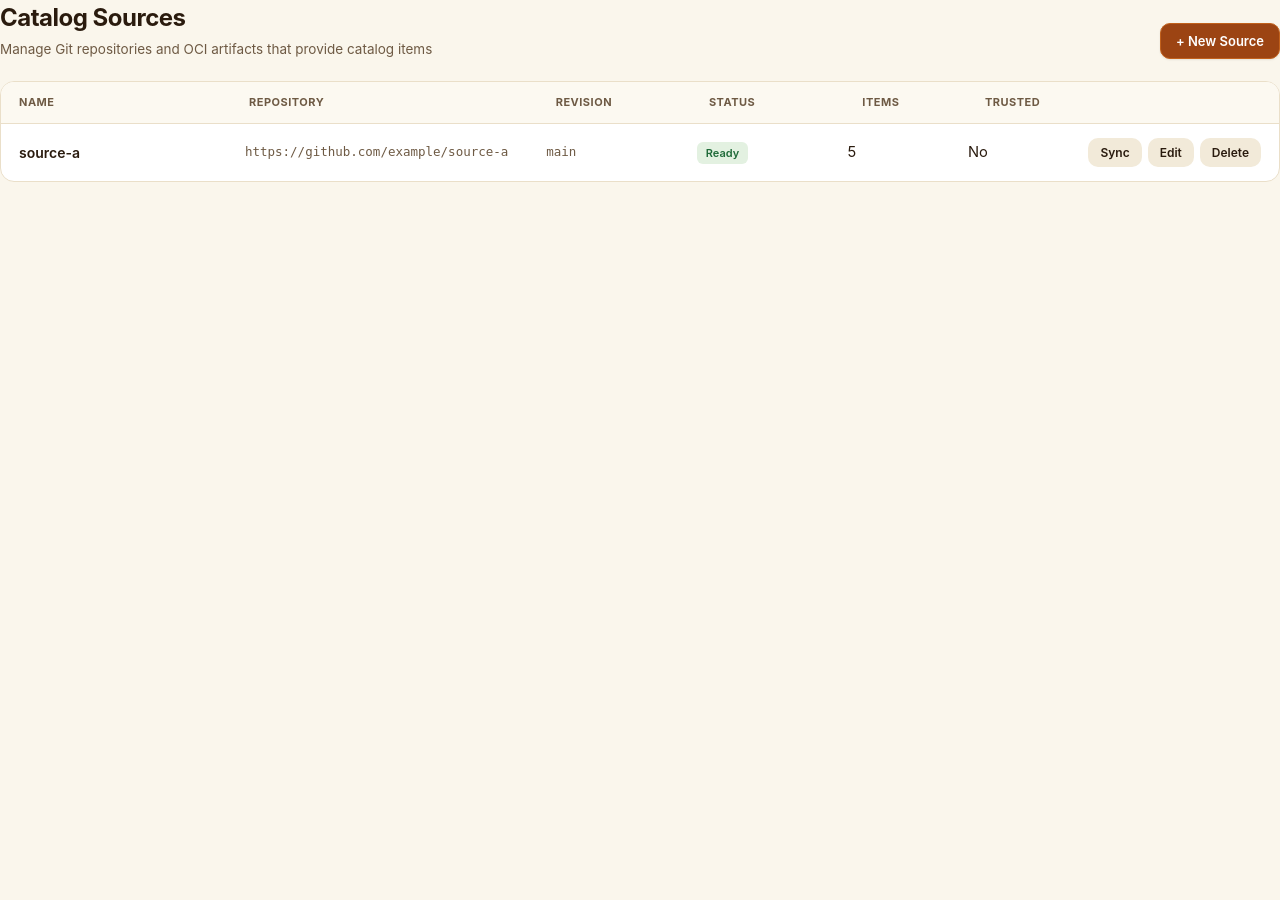
Test: CatalogSources › Edit dialog › opens the edit dialog with pre-filled values
The image size is (1280, 900).
Click the button "Edit".
click(1171, 152)  # box [1148, 138, 1194, 167]
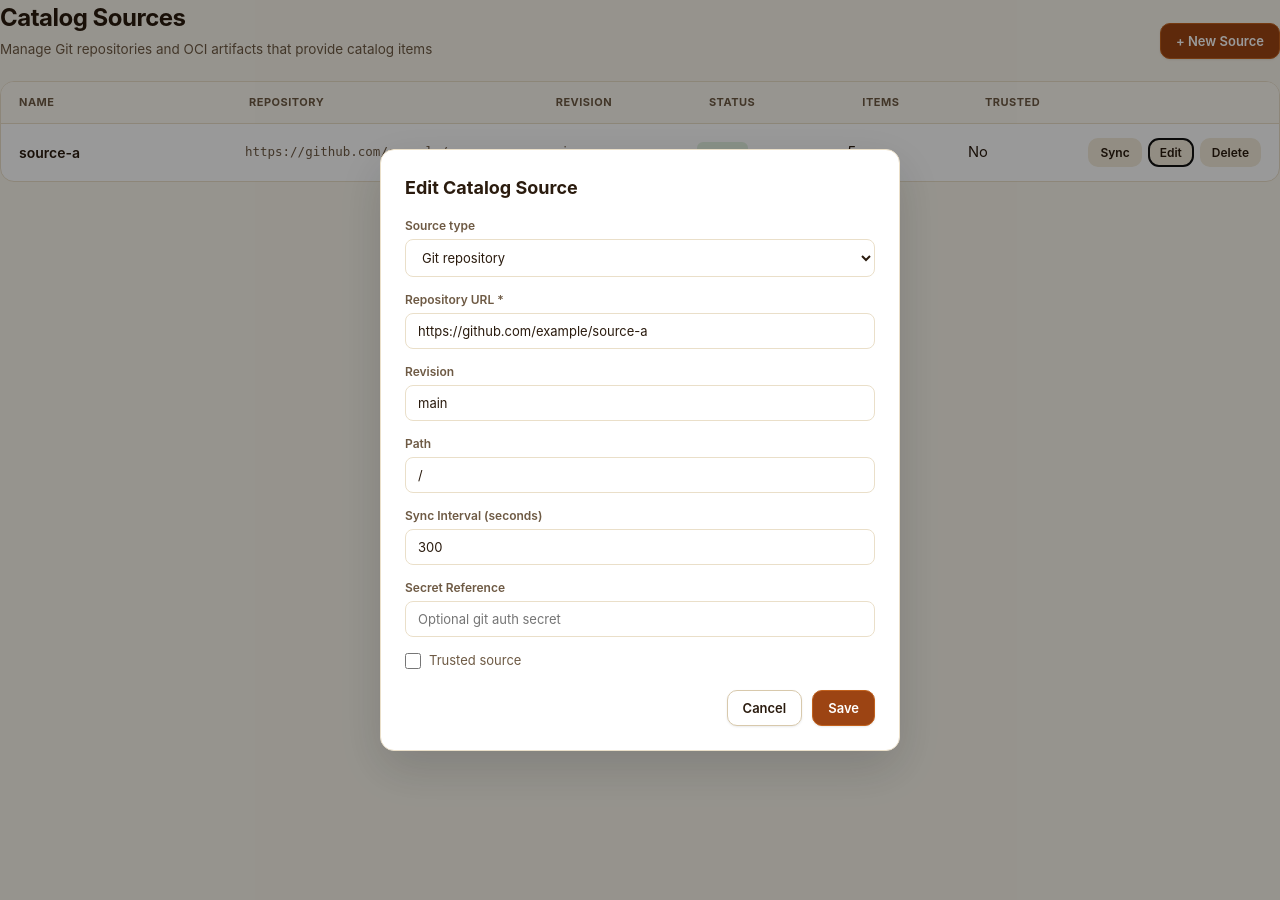
expect the text "Edit Catalog Source" is shown: met, box [405, 177, 578, 198]
expect the field showing "https://github.com/example/source-a" below "Repository URL *" is shown: met, box [405, 313, 875, 349]
